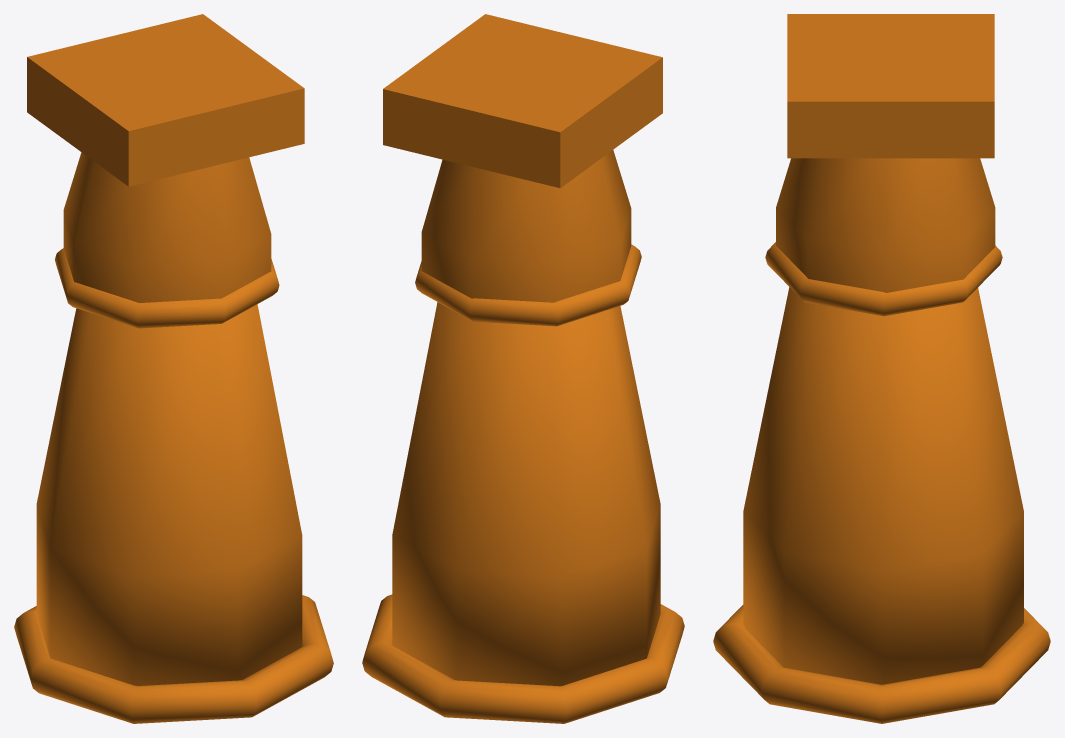
Rendered from Column 1.FBX.
The picture shows the model from 3 angles, left to right: view 1: azimuth 30°, elevation 25°; view 2: azimuth 150°, elevation 25°; view 3: azimuth 270°, elevation 25°; orthographic projection.
Visible parts, largest first — view 1: Cylinder001; view 2: Cylinder001; view 3: Cylinder001.
Part boxes in pixels (box(x1,y1,x2,y2)): Cylinder001: box(14, 14, 333, 723); Cylinder001: box(362, 14, 684, 723); Cylinder001: box(713, 14, 1050, 723).
Size of the model in its own units: 4.07 by 7.98 by 4.07.
